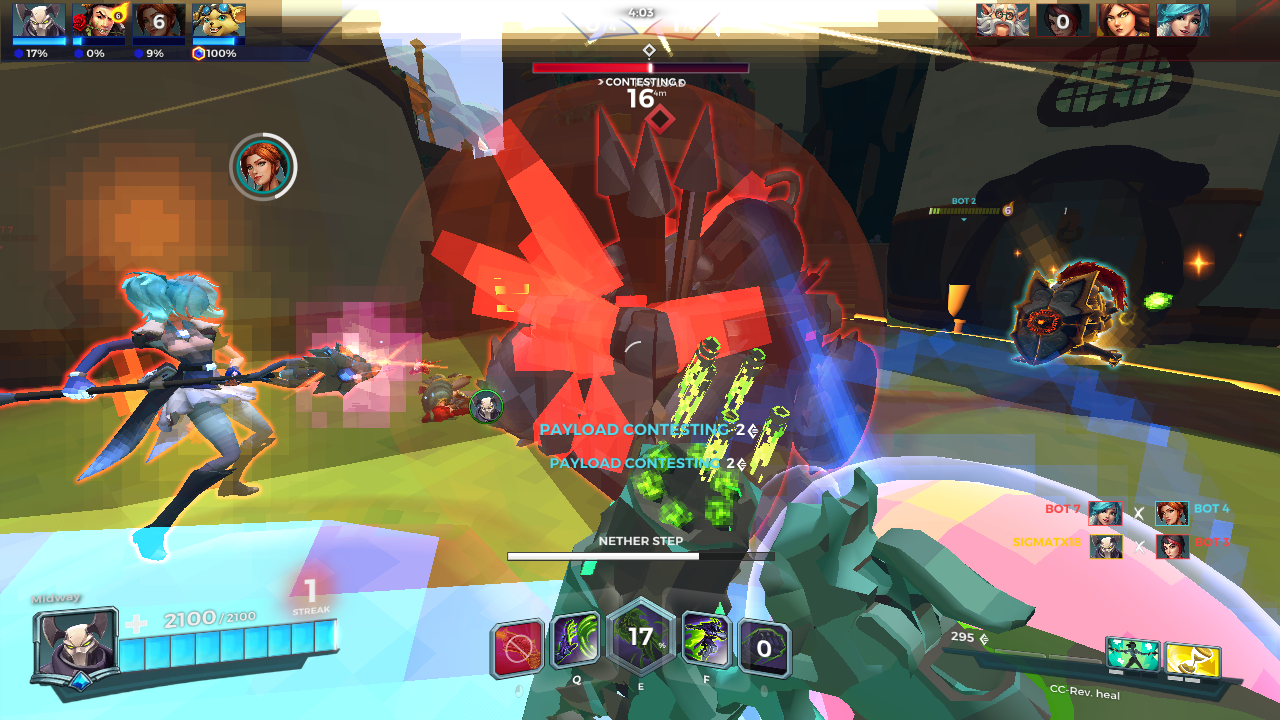model: (58, 260, 317, 567)
